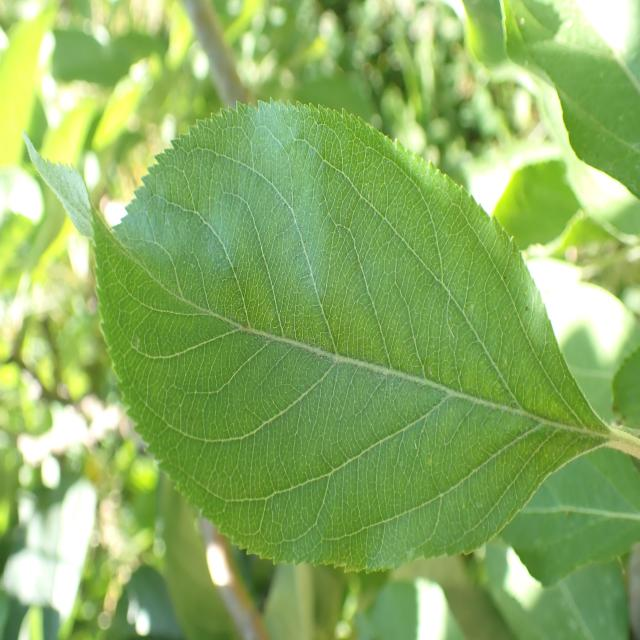healthy: (20, 97, 612, 575), (459, 1, 640, 200)
